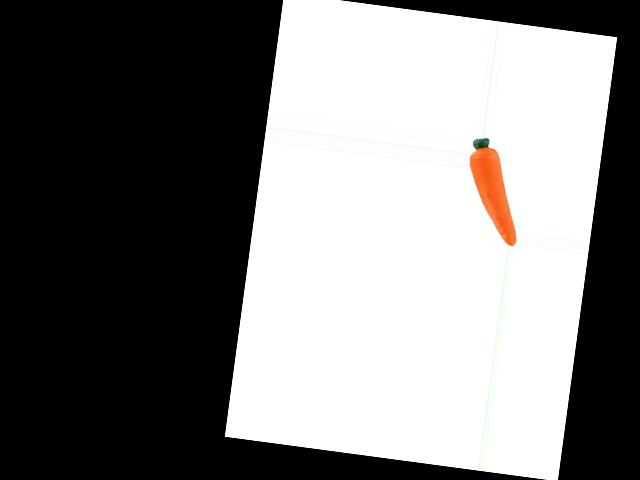carrot: (459, 145, 529, 246)
